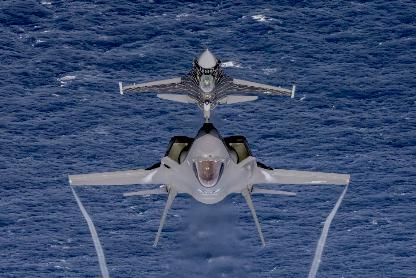F14: (119, 48, 296, 124)
F22: (68, 123, 350, 246)
